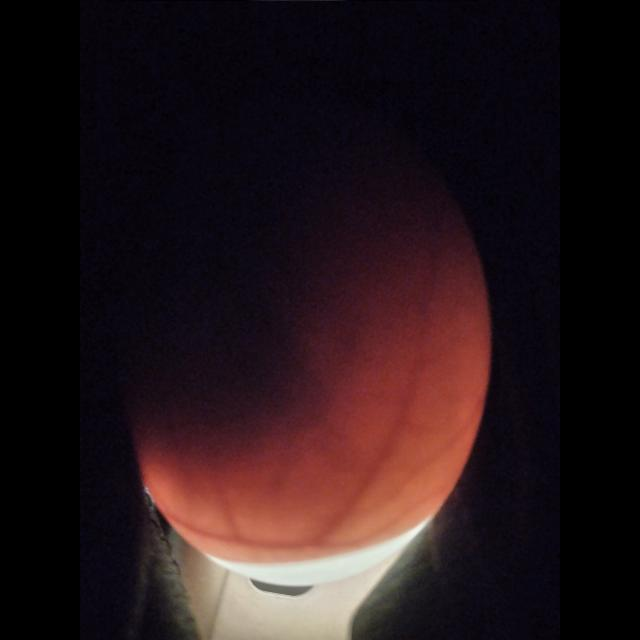Fertile: (116, 92, 498, 578)
